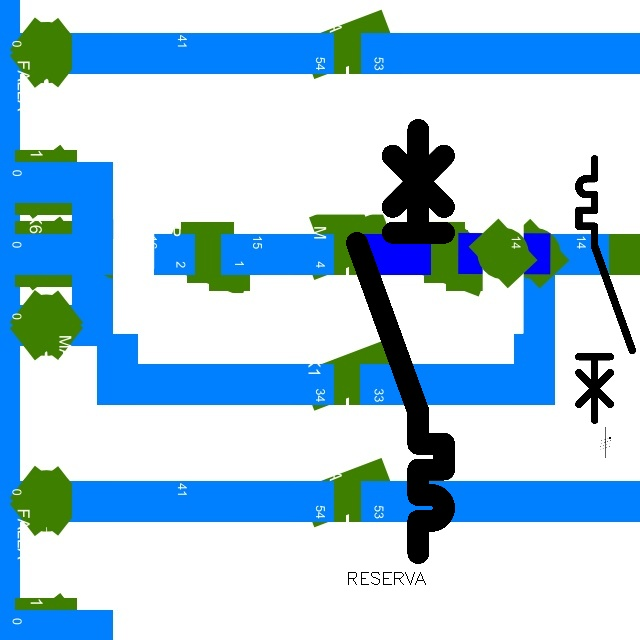interruptor_termomagnetico: (346, 119, 455, 564), (572, 152, 639, 427)
